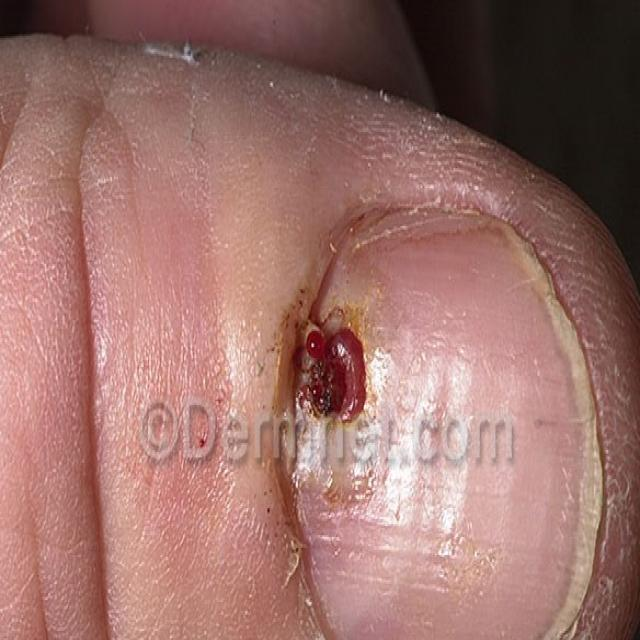Vascular Tumors: (243, 255, 379, 531)
